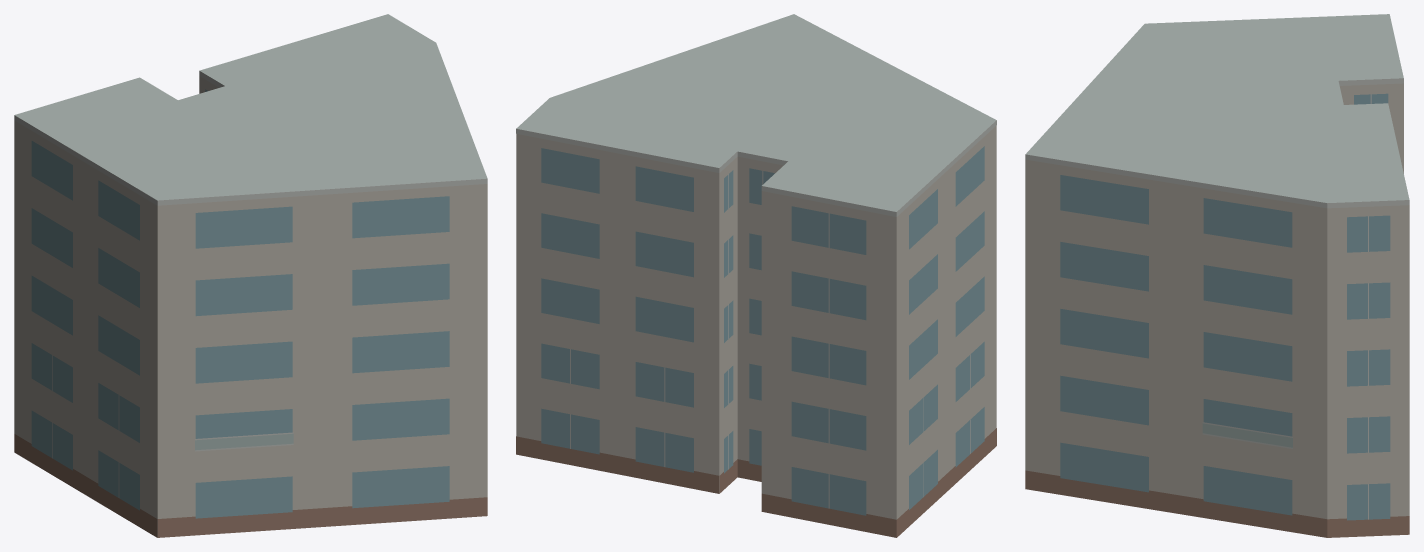
The model's file is survey-upis-32912049.glb.
3 views of the same model, side by side, from view 1: azimuth 30°, elevation 25°; view 2: azimuth 150°, elevation 25°; view 3: azimuth 270°, elevation 25° (orthographic). The views are drawn at different scales.
Visible parts, largest first — view 1: survey-upis-32912049.tmp; view 2: survey-upis-32912049.tmp; view 3: survey-upis-32912049.tmp.
Boxes of the visible parts, left/top/right/bottom form: survey-upis-32912049.tmp: left=14, top=14, right=487, bottom=537; survey-upis-32912049.tmp: left=516, top=14, right=996, bottom=537; survey-upis-32912049.tmp: left=1025, top=14, right=1409, bottom=537.
Size of the model in its own units: 19.16 by 15.8 by 16.45.
